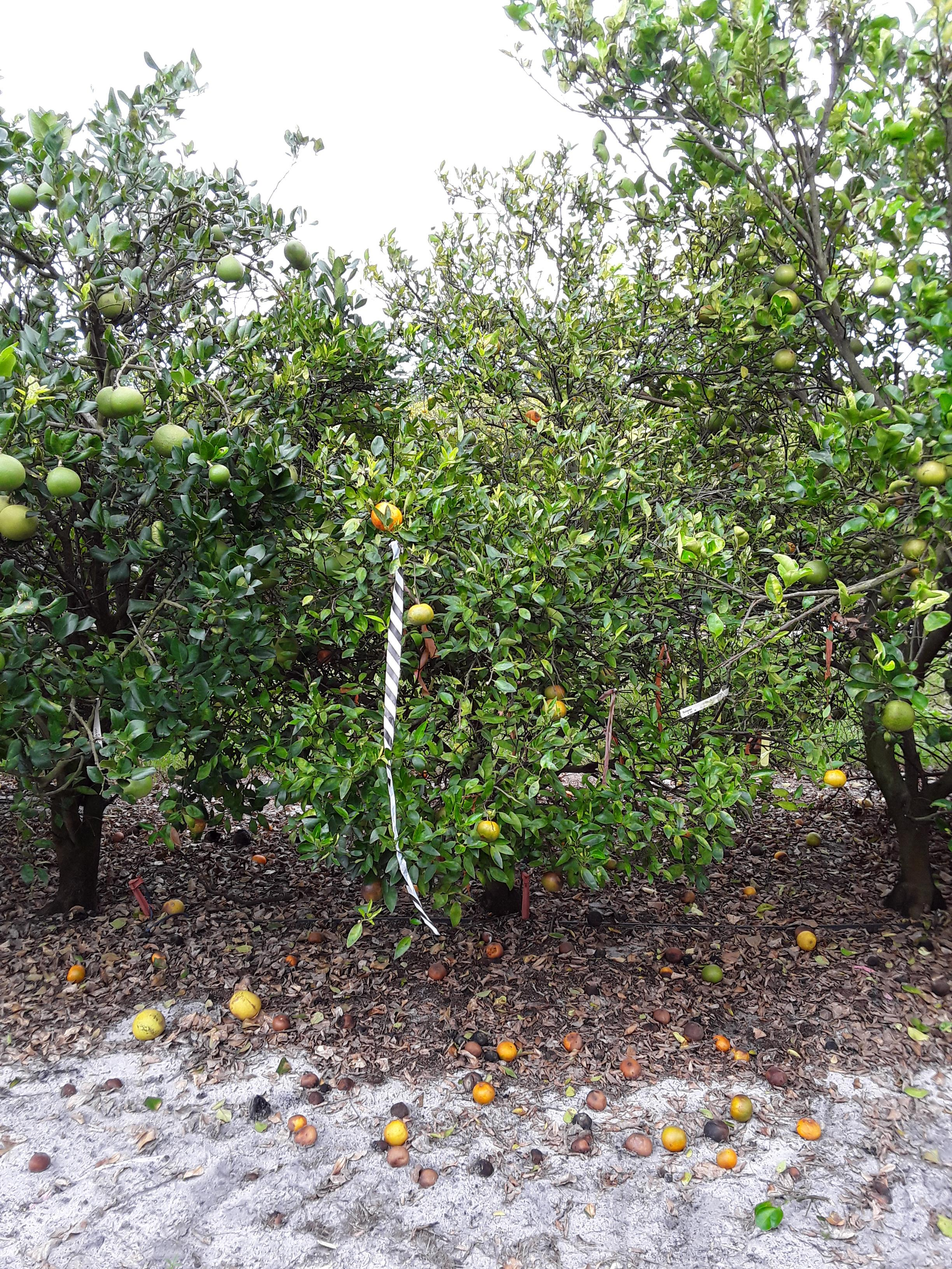fruit_on_ground: (149, 421, 196, 460), (0, 500, 38, 547), (44, 463, 81, 509), (110, 767, 160, 800), (880, 693, 914, 737), (35, 178, 77, 213), (110, 384, 152, 416), (0, 453, 30, 496), (94, 385, 129, 421), (370, 500, 406, 535), (93, 287, 133, 318), (193, 541, 236, 568), (915, 452, 947, 488), (7, 186, 39, 222), (281, 232, 310, 271), (203, 217, 235, 250), (269, 628, 299, 662), (804, 556, 831, 593), (215, 256, 246, 287), (901, 538, 935, 566), (289, 240, 314, 277), (251, 562, 282, 590), (408, 602, 439, 628), (772, 343, 798, 374), (541, 697, 569, 725), (431, 802, 465, 825), (111, 566, 137, 596), (772, 289, 803, 314), (474, 820, 504, 844), (875, 579, 906, 602), (361, 876, 385, 905), (771, 261, 795, 290), (866, 491, 899, 512), (172, 216, 202, 239), (182, 812, 210, 836), (869, 271, 892, 299), (540, 870, 565, 895), (317, 639, 340, 666), (767, 278, 796, 299), (749, 304, 773, 329), (846, 334, 870, 358), (206, 463, 231, 486), (903, 323, 928, 346), (745, 285, 772, 306), (849, 533, 875, 554), (696, 299, 717, 325), (455, 430, 482, 450), (789, 287, 805, 320), (824, 765, 846, 788), (595, 667, 621, 686), (541, 685, 570, 702), (704, 411, 726, 432), (792, 709, 819, 726), (523, 411, 544, 432), (752, 414, 772, 436), (724, 411, 741, 435), (782, 540, 801, 560), (753, 444, 774, 461), (830, 705, 852, 721), (933, 724, 952, 742), (907, 565, 927, 582), (876, 543, 895, 560), (730, 462, 744, 472)
fruit_on_tree: (133, 1004, 169, 1046), (229, 985, 262, 1023), (246, 1091, 276, 1125), (25, 1143, 49, 1180), (794, 1116, 824, 1145), (627, 1129, 654, 1159), (292, 1121, 318, 1152), (396, 881, 429, 905), (471, 1080, 497, 1109), (730, 1092, 753, 1124), (382, 1118, 409, 1145), (703, 1118, 731, 1144), (621, 1058, 646, 1086), (766, 1066, 791, 1094), (388, 1143, 414, 1169), (662, 1125, 687, 1152), (472, 1157, 500, 1181), (525, 1145, 550, 1171), (100, 1070, 124, 1097), (415, 1165, 439, 1192), (797, 931, 821, 957), (67, 960, 90, 986), (701, 961, 724, 987), (297, 1071, 326, 1091), (714, 1148, 736, 1173), (928, 977, 952, 999), (730, 1045, 754, 1067), (587, 1091, 609, 1115), (387, 1100, 413, 1120), (571, 1131, 591, 1157), (426, 960, 447, 984), (270, 1009, 291, 1033), (791, 1019, 816, 1039), (286, 1113, 311, 1133), (304, 929, 331, 947), (560, 1030, 582, 1052), (498, 1041, 520, 1063), (163, 896, 184, 919), (463, 1037, 484, 1060), (235, 826, 256, 847), (684, 1021, 705, 1042), (335, 1010, 355, 1031), (852, 793, 878, 808), (572, 1112, 598, 1127), (59, 1081, 80, 1099), (805, 830, 823, 850), (713, 1038, 731, 1058), (579, 980, 601, 996), (485, 940, 502, 960), (864, 951, 884, 968), (653, 1006, 670, 1026), (474, 929, 500, 942), (747, 842, 765, 860), (446, 1044, 463, 1063), (147, 950, 170, 964), (338, 1078, 361, 1091), (308, 1089, 326, 1105), (203, 830, 225, 843), (680, 891, 700, 905), (664, 946, 684, 960), (603, 856, 620, 871), (586, 912, 604, 926), (248, 853, 267, 866), (775, 848, 789, 864), (742, 884, 758, 898), (559, 940, 576, 953), (658, 967, 675, 980), (112, 832, 130, 844), (285, 952, 298, 968), (681, 827, 695, 841), (794, 815, 805, 829), (264, 822, 275, 835)
